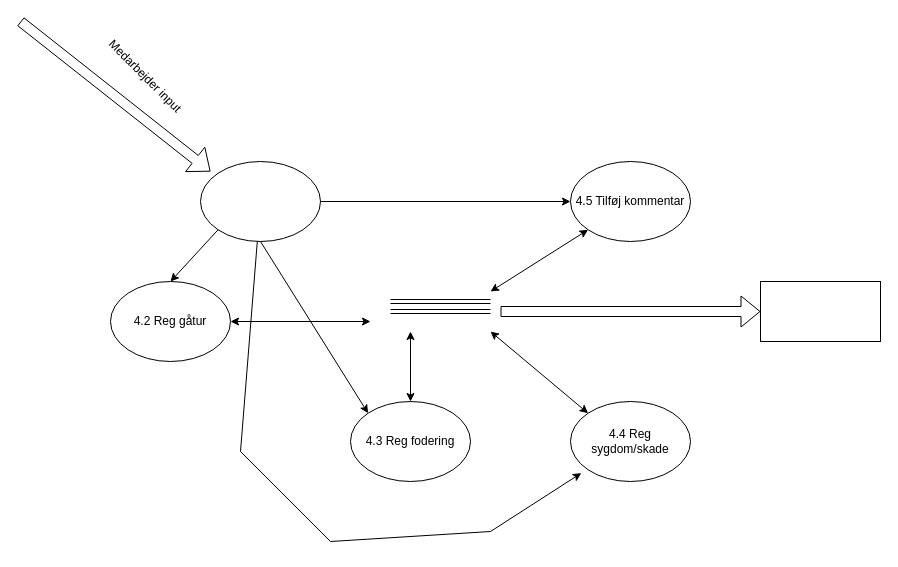
The diagram is 898 pixels wide and 567 high, and some of its shapes have lost their labels. Here are the shapes that lost their labels. From the top down, the centre of each, then its label:
point 260,201: 4.1 Tilføj hændelse
point 820,311: Udskriv hændelseslog
